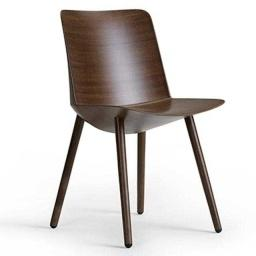Chair: (49, 10, 222, 247)
